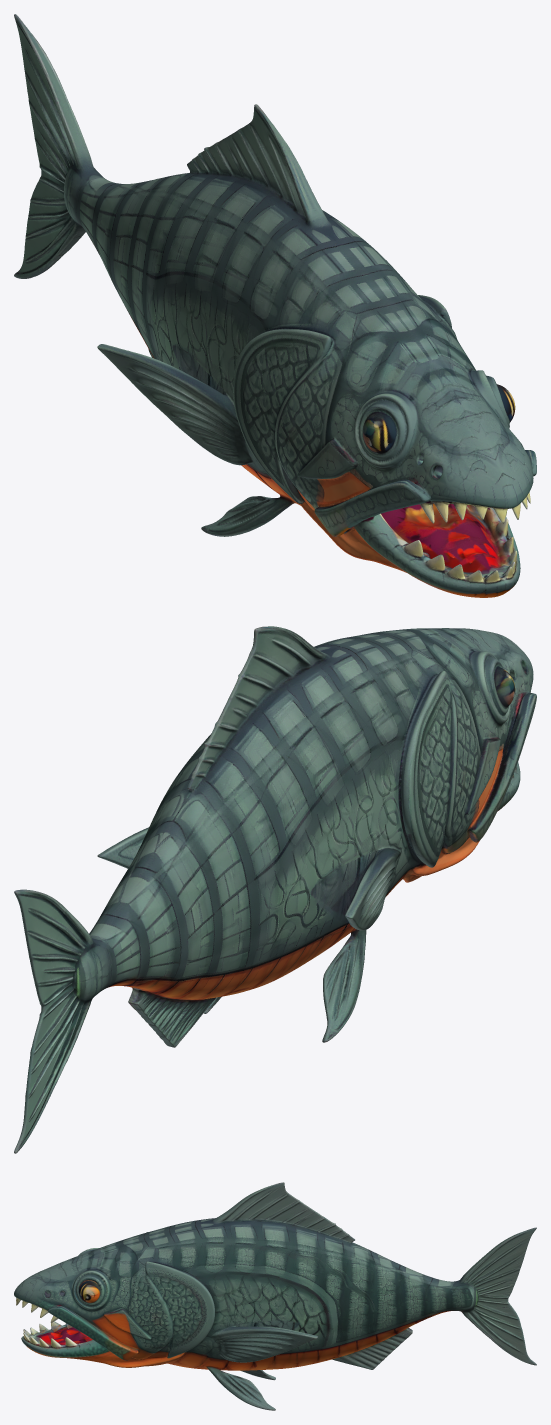
Rendered from Piranha.glb.
The picture shows the model from 3 angles, top to bottom: view 1: azimuth 30°, elevation 25°; view 2: azimuth 150°, elevation 25°; view 3: azimuth 270°, elevation 25°; orthographic projection. The views are drawn at different scales.
Size of the model in its own units: 0.5605 by 0.8525 by 1.9.
1 material, 1 textured.
